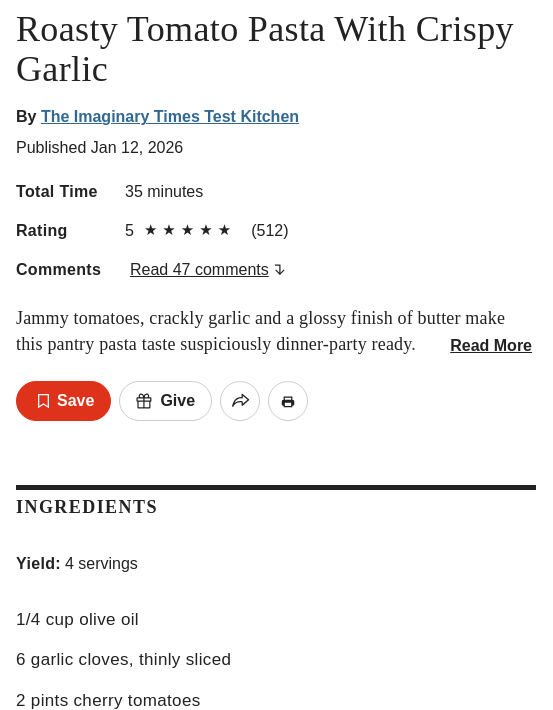
Test: App › reveals the full blurb and hides the Read More button in share mode
expect the element with class "recipe-blurb" is shown: met, box [16, 305, 536, 357]
Step 1. Click the button "Read More" → coordinates (491, 346), box [446, 334, 536, 357]
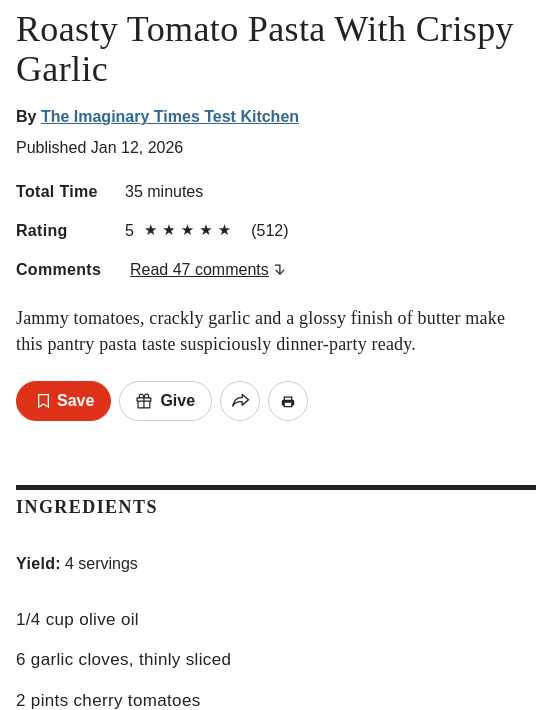
expect the button "Read More" is gone: met
